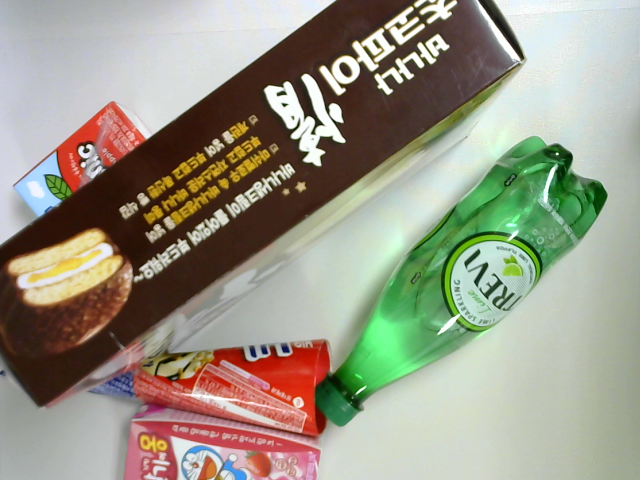Choco_Pie_Banana: (2, 1, 532, 419)
Picnic_Apple: (15, 96, 170, 230)
Strawberry_E_Mong: (113, 417, 333, 480)
Treviraim_500ml: (309, 123, 612, 439)
World_Cone_Banila: (32, 330, 351, 445)
